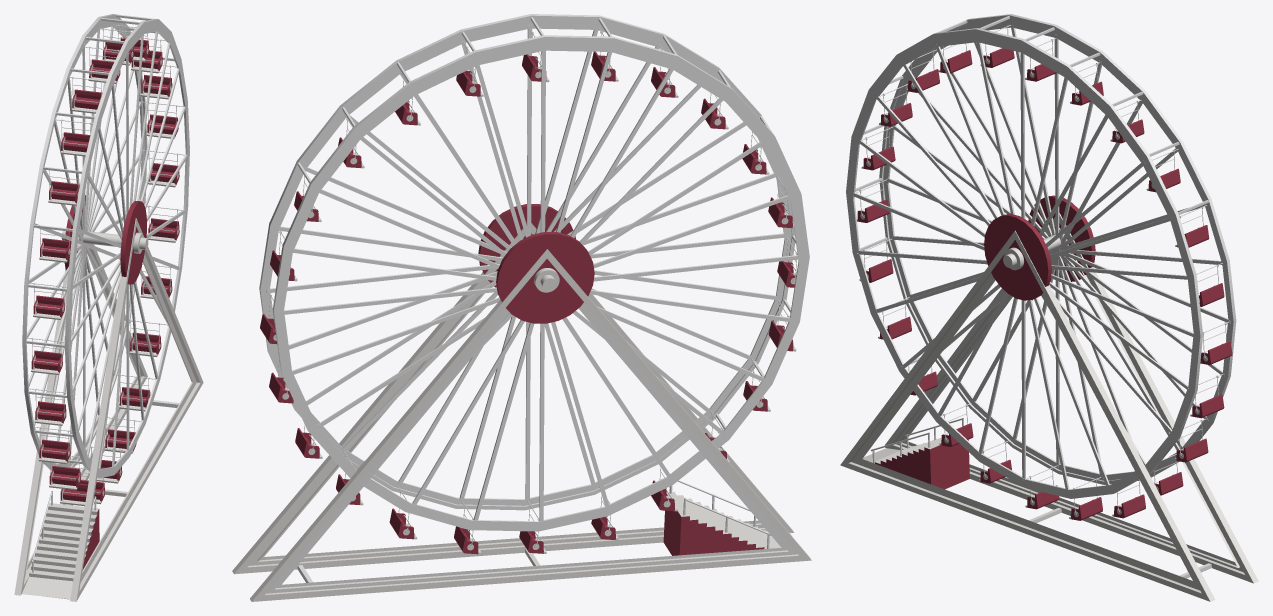
Rendered from FerrisWheel.fbx.
3 views of the same model, side by side, from view 1: azimuth 30°, elevation 25°; view 2: azimuth 150°, elevation 25°; view 3: azimuth 270°, elevation 25° (orthographic). The views are drawn at different scales.
Visible parts, largest first — view 1: Group_376, Group_169, Ferris Wheel_001, Group#16_001, Group_377, Group_181, Group_180, Group_176, Group_175, Group_179, Group_192, Group_177 (+40 smaller); view 2: Group#16_001, Group_377, Group_169, Ferris Wheel_001, Group_376, Group_183, Group_182, Group_189, Group_190, Group_191, Group_184, Group_171 (+16 smaller); view 3: Group_376, Group_169, Group#16_001, Group_377, Ferris Wheel_001, Group_178, Group_179, Group_180, Group_171, Group_172, Group_185, Group_181 (+17 smaller).
Part boxes in pixels (x1,y1,x2,y2): Group_376: (70, 201, 203, 601); Group_169: (64, 19, 189, 478); Ferris Wheel_001: (22, 253, 137, 599); Group#16_001: (22, 14, 147, 470); Group_377: (14, 195, 148, 595); Group_181: (112, 34, 143, 466); Group_180: (126, 52, 129, 450); Group_176: (78, 68, 179, 430); Group_175: (86, 39, 171, 461); Group_179: (111, 83, 144, 420); Group_192: (82, 43, 85, 447); Group_177: (72, 106, 186, 392); Group#16_001: (272, 35, 809, 531); Group_377: (250, 232, 811, 601); Group_169: (259, 14, 795, 510); Ferris Wheel_001: (266, 302, 797, 593); Group_376: (232, 204, 793, 574); Group_183: (292, 195, 789, 374); Group_182: (284, 255, 798, 314); Group_189: (290, 248, 790, 321); Group_190: (412, 68, 673, 504); Group_191: (473, 52, 611, 520); Group_184: (317, 141, 763, 428); Group_171: (274, 173, 777, 354); Group_376: (840, 214, 1215, 601); Group_169: (846, 28, 1202, 498); Group#16_001: (879, 14, 1236, 484); Group_377: (885, 195, 1258, 583); Ferris Wheel_001: (862, 229, 1243, 572); Group_178: (936, 46, 1109, 485); Group_179: (977, 42, 1069, 489); Group_180: (1020, 52, 1025, 478); Group_171: (859, 140, 1188, 389); Group_172: (876, 96, 1172, 433); Group_185: (937, 51, 1180, 450); Group_181: (978, 77, 1067, 453).
Bounding box in the file's own units: 17692 × 23136 × 17692.
